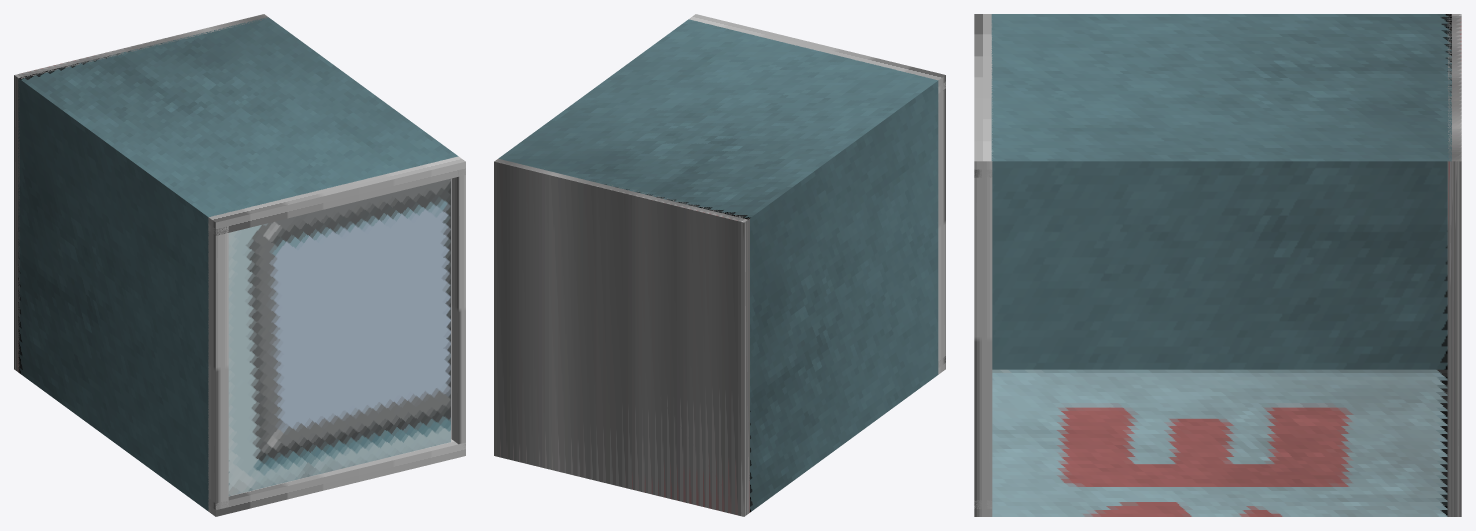
Rendered from ice_right.obj.
3 renders of one model, left to right at view 1: azimuth 30°, elevation 25°; view 2: azimuth 150°, elevation 25°; view 3: azimuth 270°, elevation 25°, orthographic. The views are drawn at different scales.
Parts seen in each view (by area): view 1: ice_right; view 2: ice_right; view 3: ice_right.
Part boxes in pixels (x1,y1,x2,y2): ice_right: (14, 14, 465, 516); ice_right: (494, 14, 945, 516); ice_right: (974, 14, 1461, 516).
Bounding box in the file's own units: 0.625 × 0.7031 × 0.8731.
1 material, 1 textured.
